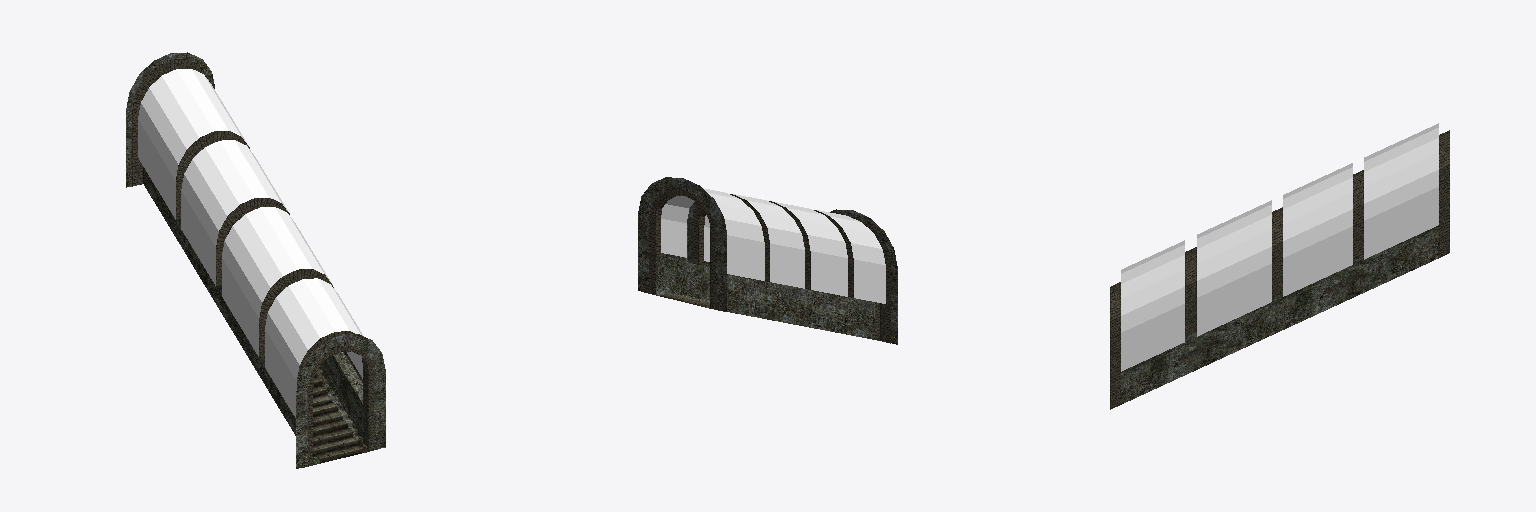
3 views of the same model, side by side, from view 1: azimuth 30°, elevation 25°; view 2: azimuth 150°, elevation 25°; view 3: azimuth 270°, elevation 25° (orthographic).
Visible parts, largest first — view 1: mesh4, mesh2, mesh3, mesh1, mesh0; view 2: mesh4, mesh1, mesh3, mesh2; view 3: mesh4, mesh1, mesh2.
Boxes of the visible parts, box(x1,y1,x2,y2) form: mesh4: box(138, 69, 362, 417); mesh2: box(132, 59, 377, 467); mesh3: box(126, 52, 385, 468); mesh1: box(149, 177, 362, 435); mesh0: box(313, 373, 362, 464); mesh4: box(661, 188, 885, 303); mesh1: box(661, 257, 874, 339); mesh3: box(638, 177, 897, 344); mesh2: box(644, 190, 890, 343); mesh4: box(1121, 123, 1438, 371); mesh1: box(1121, 225, 1438, 404); mesh2: box(1110, 130, 1449, 409).
Size of the model in its own units: 2.75 by 8.25 by 9.08.
5 materials, 3 textured.